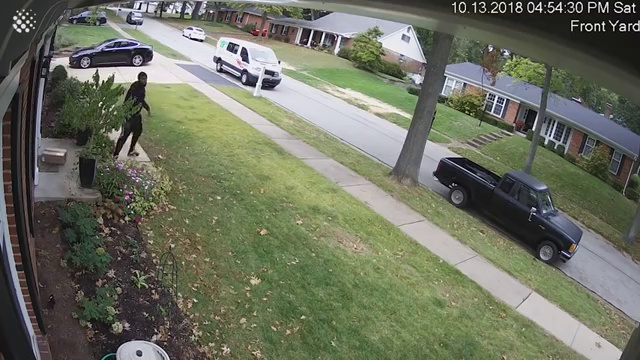face: (138, 75, 147, 84)
